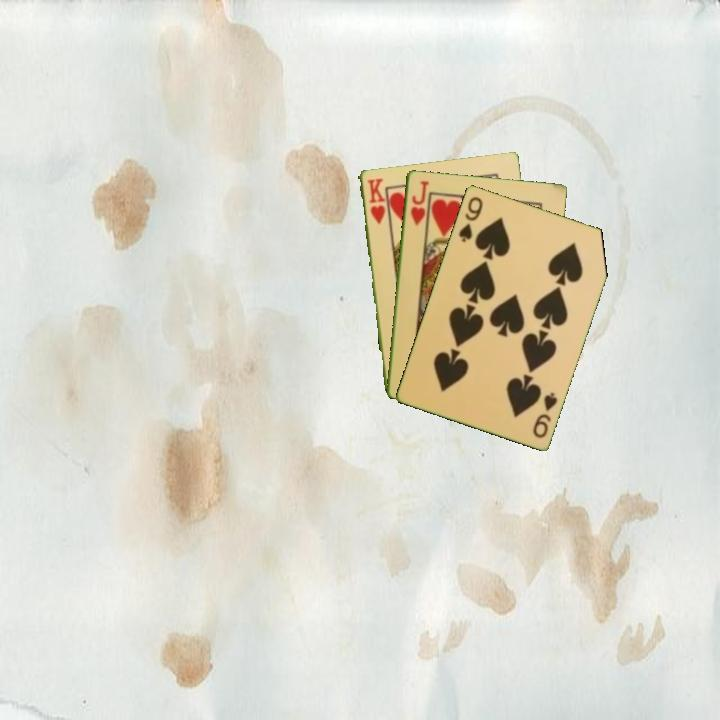9s: (529, 388, 560, 441), (455, 193, 486, 245)
Jh: (407, 177, 431, 228)
Kh: (363, 175, 388, 226)
